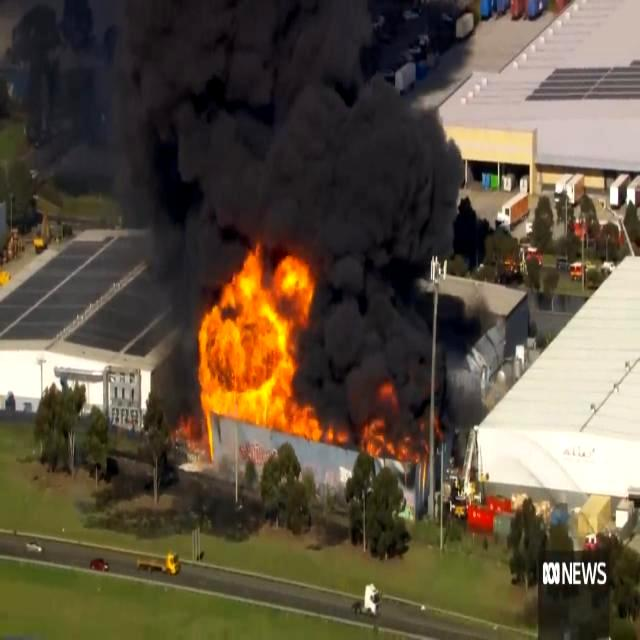fire: (180, 249, 344, 455), (360, 376, 416, 459)
